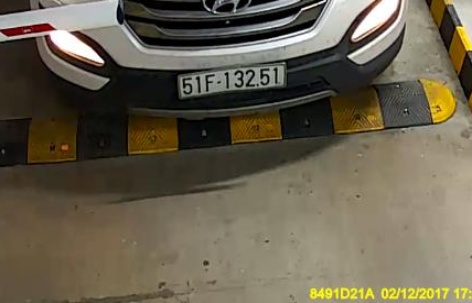plate: (168, 62, 288, 99)
